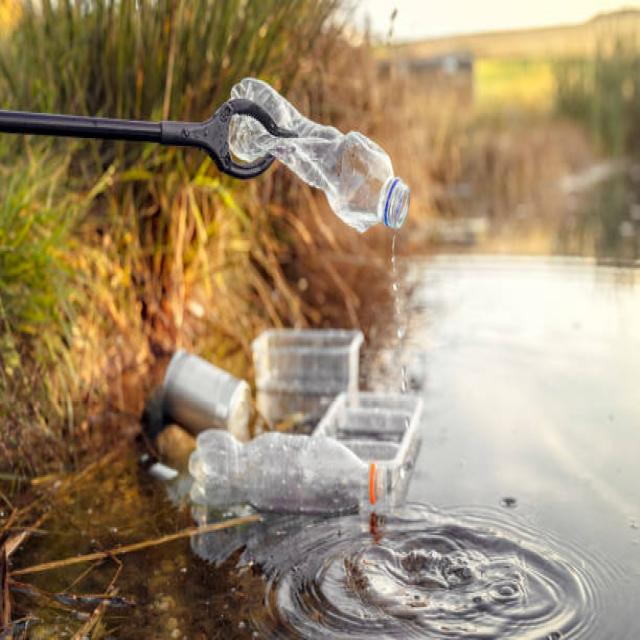plastic: (234, 83, 410, 228), (190, 428, 397, 535), (252, 316, 410, 410)
